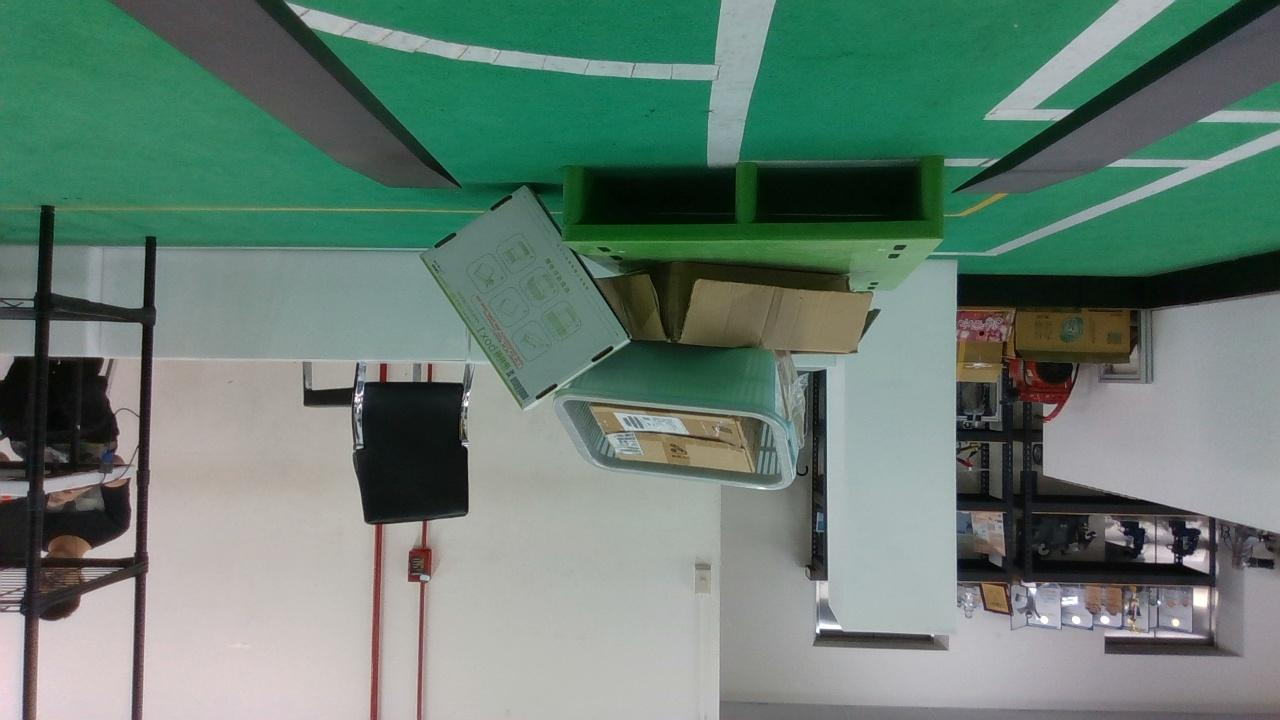Pallet: (562, 159, 944, 244)
